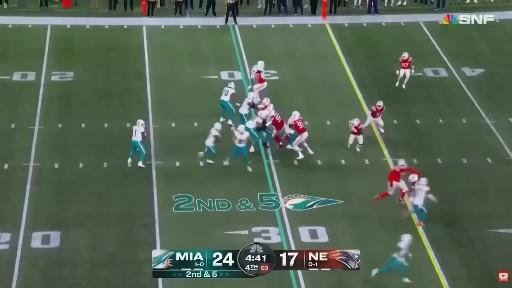Helmet: (400, 234, 413, 243), (258, 111, 269, 119), (398, 159, 407, 168), (408, 174, 418, 182), (136, 119, 145, 127), (292, 111, 300, 119), (237, 125, 245, 133), (262, 97, 270, 105), (258, 61, 264, 71), (419, 178, 427, 185), (214, 123, 221, 131), (402, 52, 409, 59), (228, 82, 235, 89), (351, 119, 359, 125), (376, 101, 383, 107), (248, 92, 253, 100), (268, 104, 274, 109)
Jersey: (388, 168, 420, 183), (412, 184, 430, 206), (393, 241, 411, 261), (267, 113, 284, 130), (239, 97, 254, 114), (206, 128, 219, 146), (292, 118, 306, 134), (235, 131, 249, 146), (221, 87, 235, 101), (132, 126, 145, 141), (246, 118, 262, 129), (371, 106, 384, 118), (400, 57, 412, 69), (351, 123, 362, 135), (255, 72, 265, 84)
Player: (372, 234, 413, 282), (375, 159, 420, 202), (409, 178, 437, 226), (224, 125, 252, 171), (287, 111, 313, 159), (199, 123, 221, 163), (128, 120, 146, 167), (249, 61, 267, 108), (267, 104, 285, 147), (219, 82, 235, 125), (363, 101, 384, 132), (396, 52, 413, 88), (245, 117, 262, 152), (256, 110, 271, 148), (348, 119, 363, 151), (239, 92, 253, 124), (407, 174, 419, 196), (285, 126, 297, 143), (258, 97, 271, 111), (408, 174, 418, 187)
